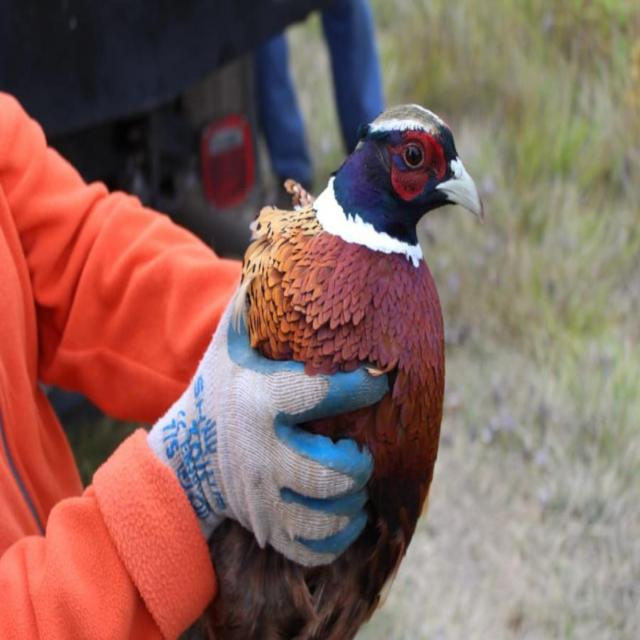pheasant: (253, 99, 485, 358)
